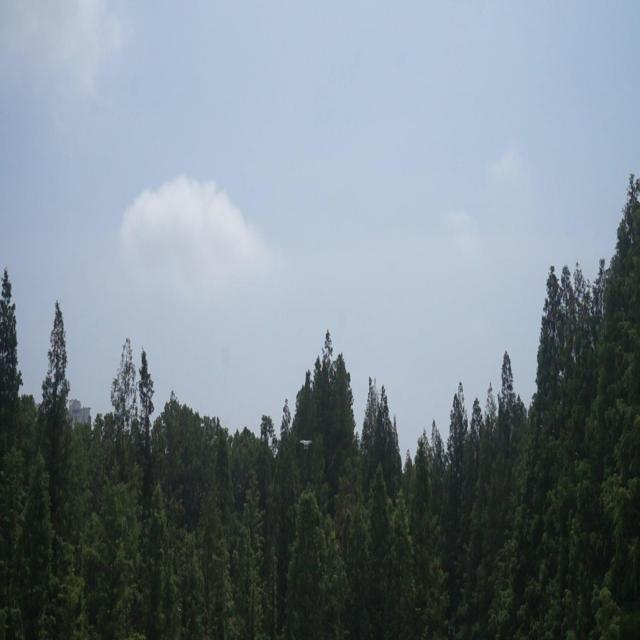UAV: (300, 440, 312, 450)
